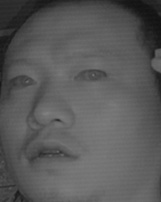eye: (75, 65, 109, 86), (8, 71, 38, 91)
mouth: (23, 133, 84, 173)
